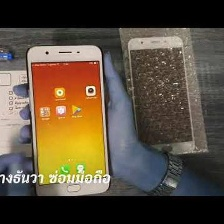phone: (22, 42, 112, 199), (125, 31, 198, 158)
